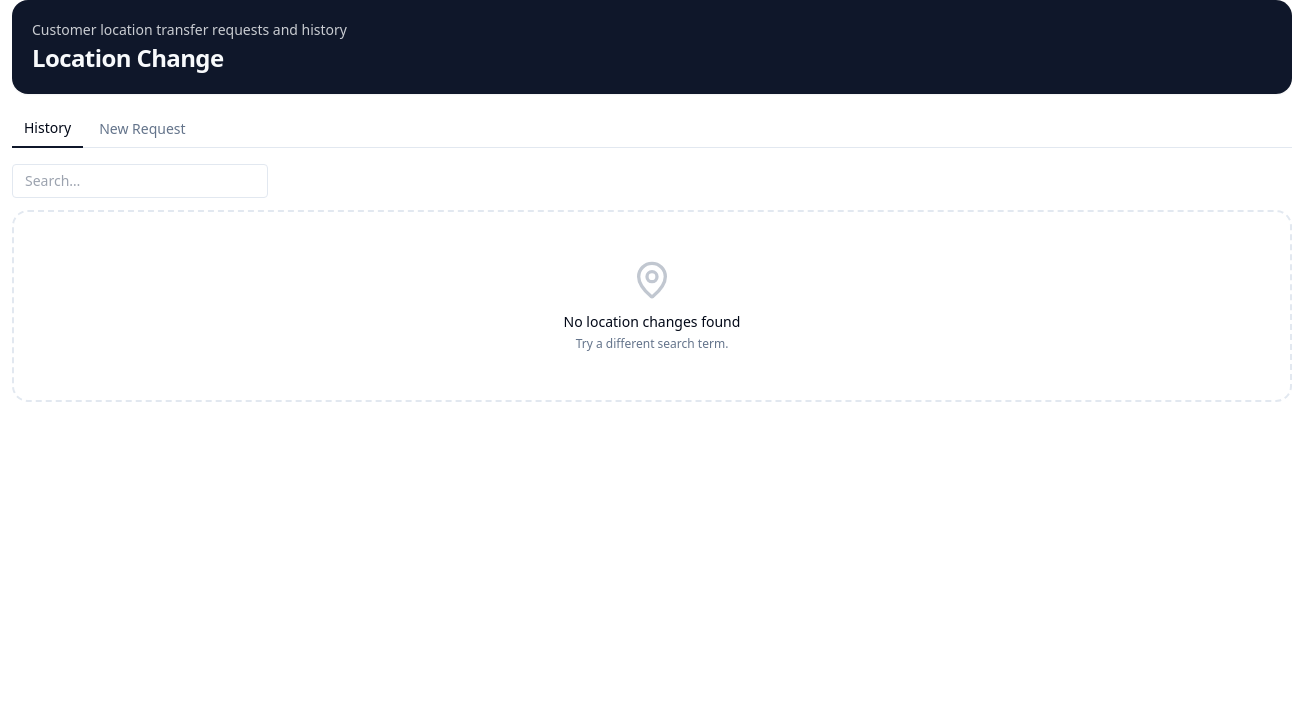
Test: LocationChangePage › successful submit calls phpApi.post and shows success message
This screenshot has width=1292, height=720.
Click the tab "New Request" at [142, 129], box x1=87 y1=110 x2=198 y2=148
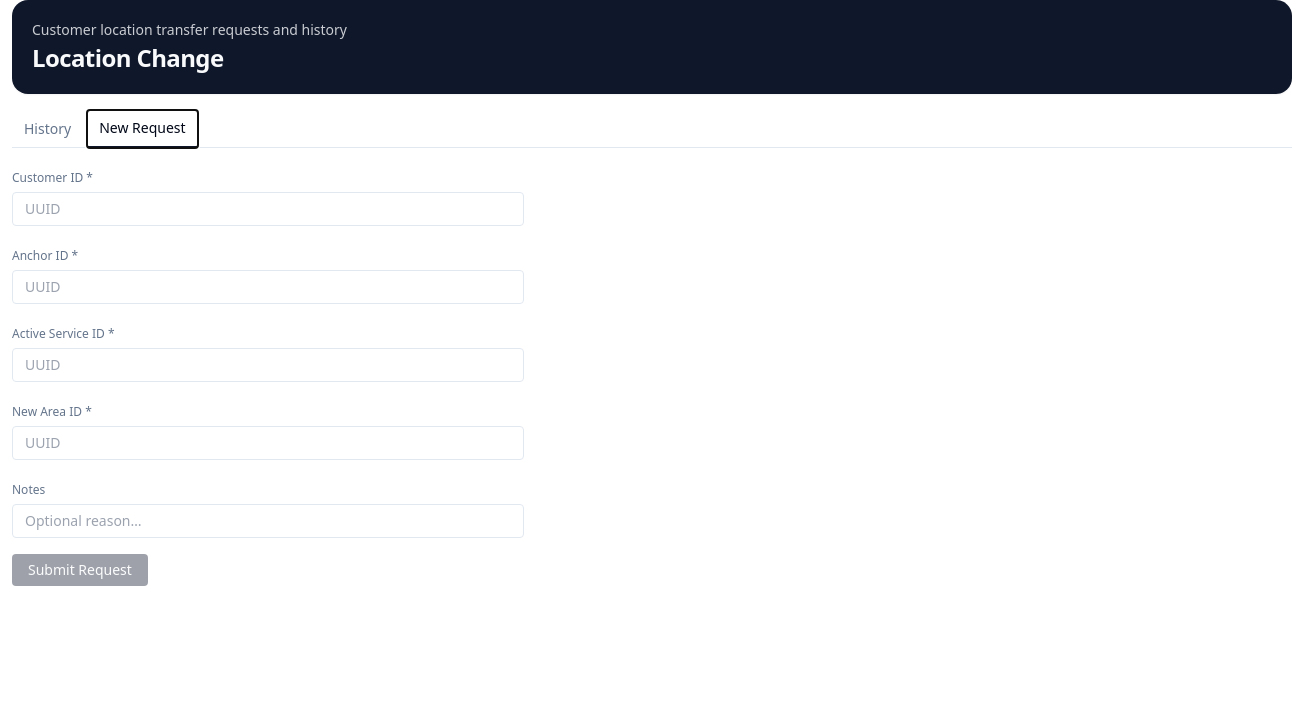
Type "cust-1" into the field with placeholder "UUID" below "Customer ID *" at [268, 209], box x1=12 y1=192 x2=524 y2=226
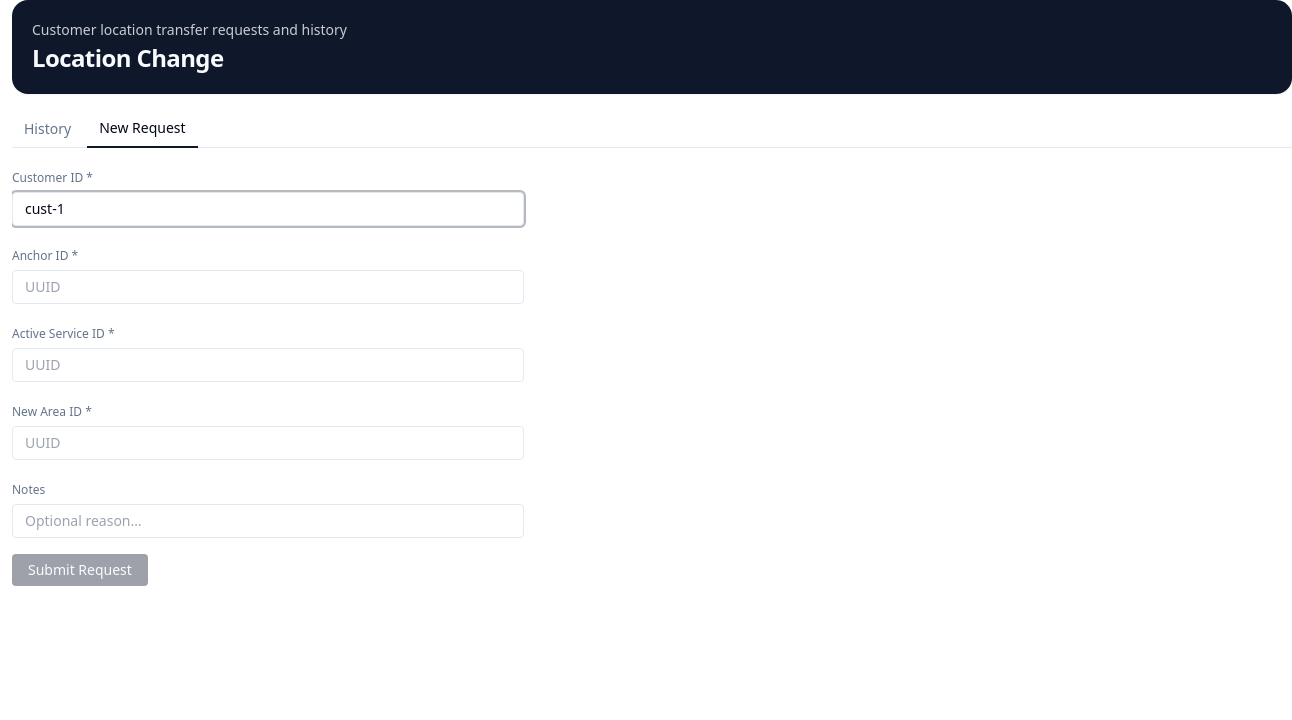
Type "anch-1" into the field with placeholder "UUID" below "Anchor ID *" at [268, 287], box x1=12 y1=270 x2=524 y2=304
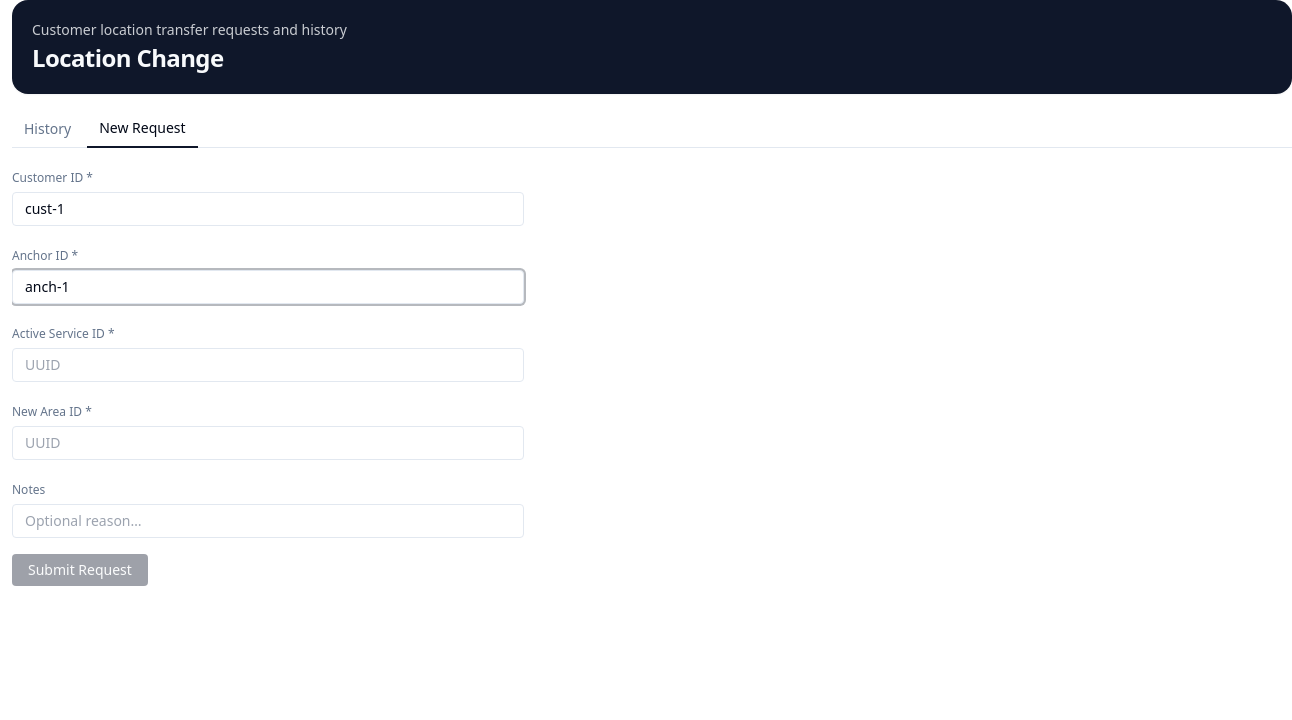
Type "svc-1" into the field with placeholder "UUID" below "Active Service ID *" at [268, 365], box x1=12 y1=348 x2=524 y2=382
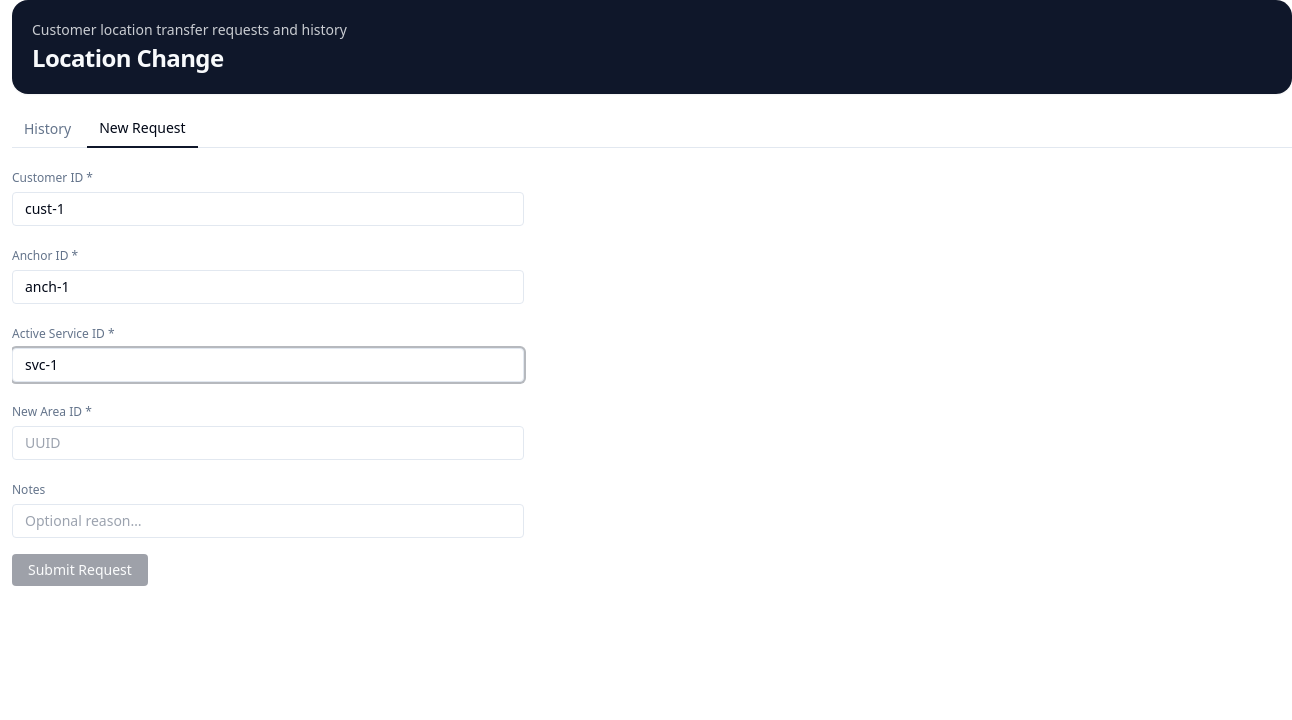
Type "area-1" into the field with placeholder "UUID" at [268, 443], box x1=12 y1=426 x2=524 y2=460
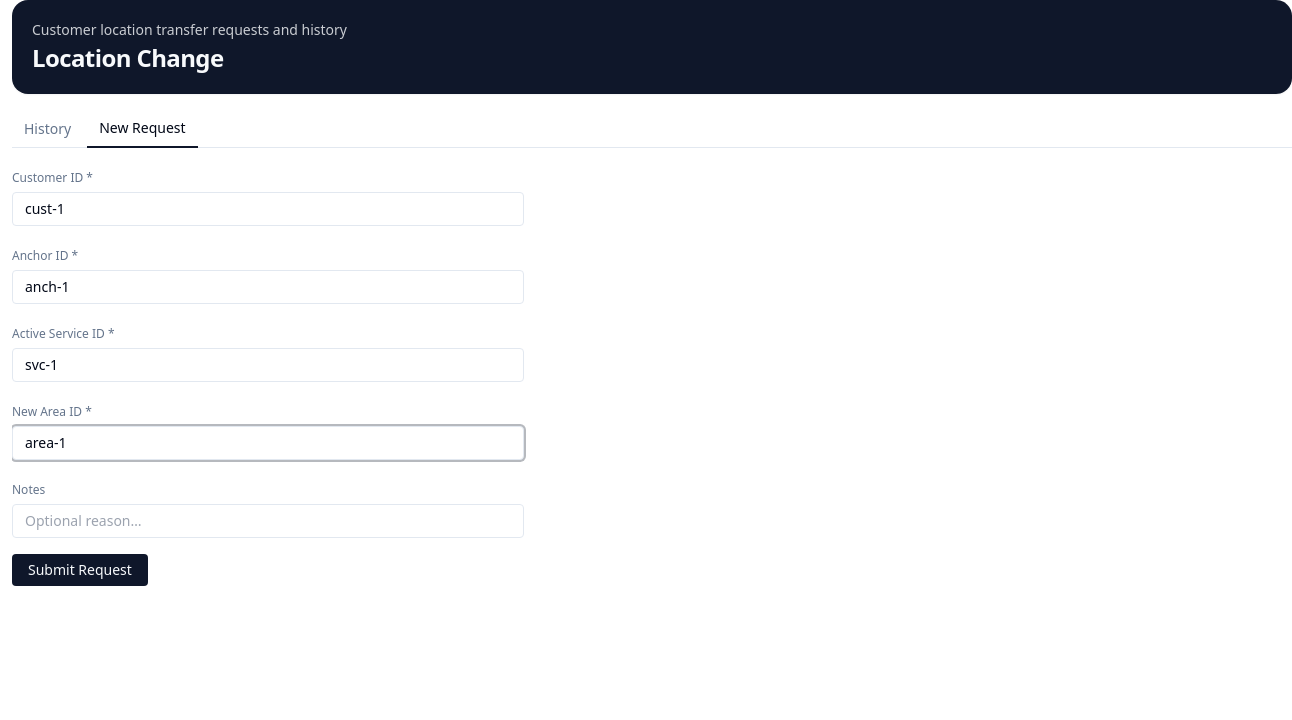
Click the button "Submit Request" at [80, 570], box x1=12 y1=554 x2=148 y2=586
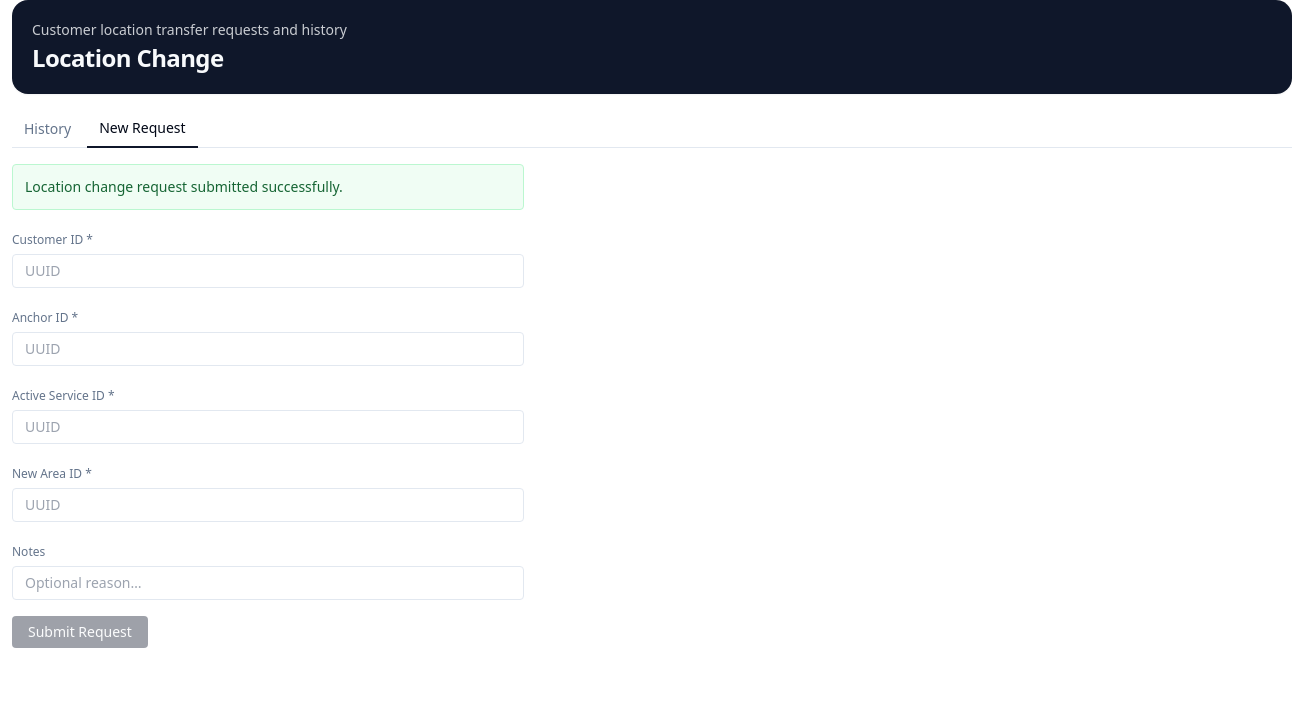
Expected: the text "Location change request submitted successfully." is shown, x1=12 y1=164 x2=524 y2=210
